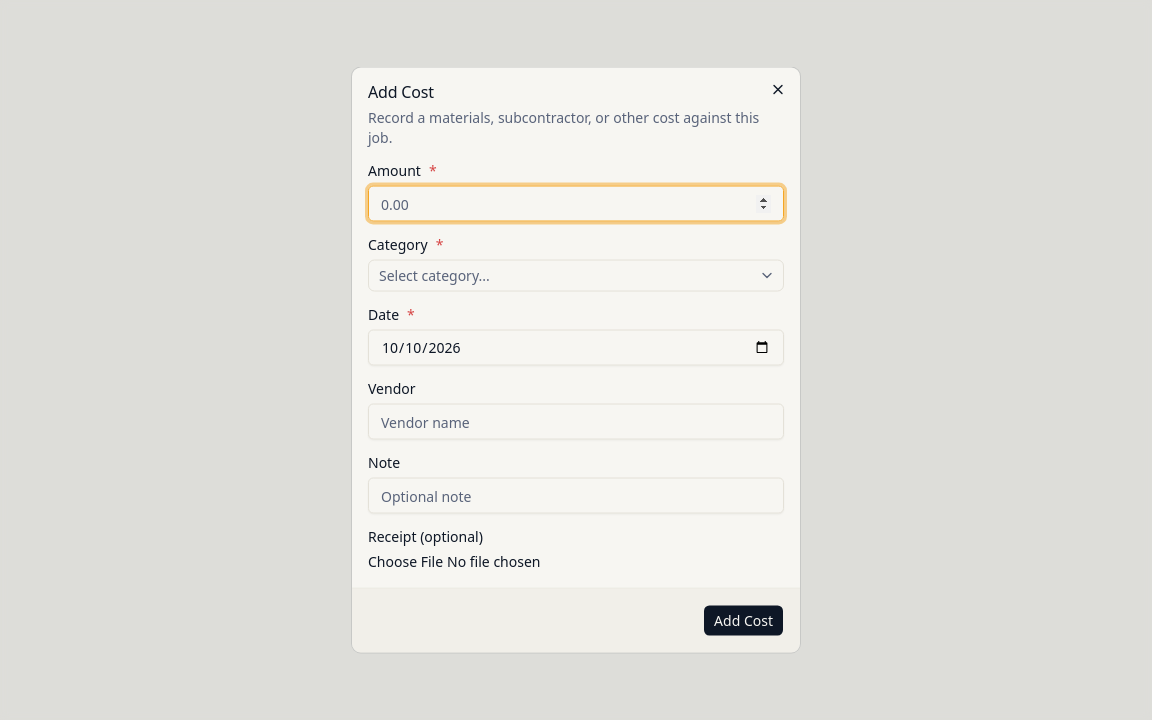
Test: AddCostDialog › blocks submit when category is not selected
The width and height of the screenshot is (1152, 720).
Type "150" into the number field labelled "Amount *" at point(576, 204), box left=368, top=186, right=784, bottom=222
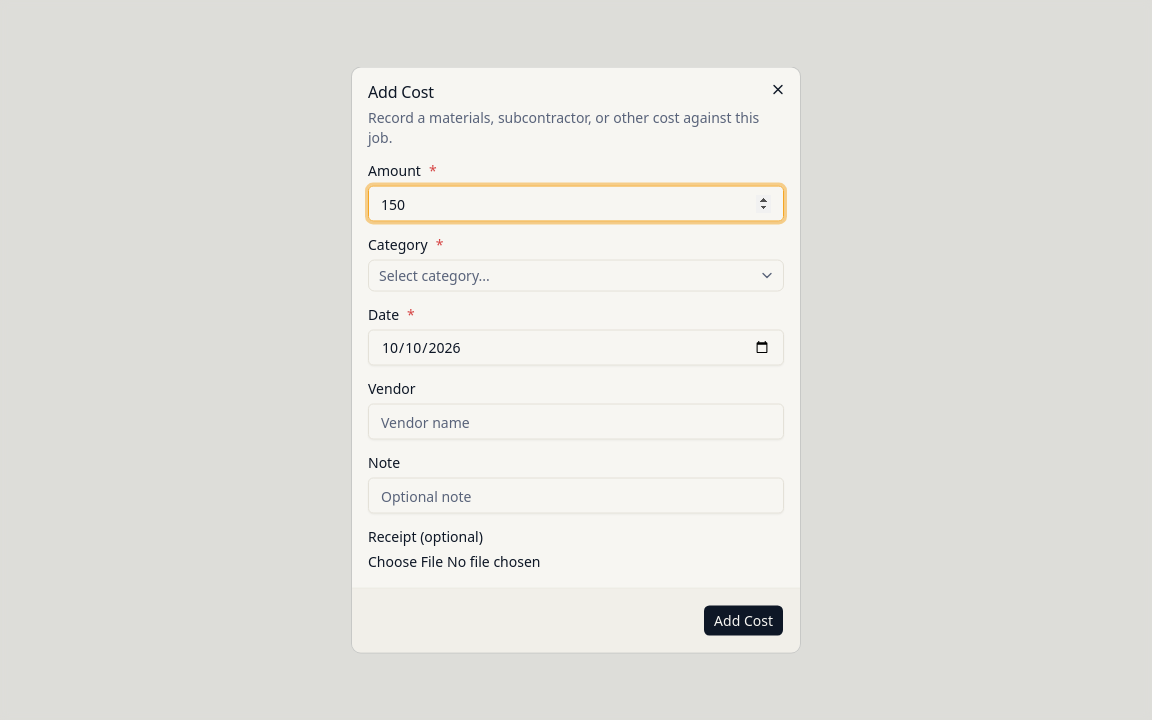
Click the button "Add Cost" at point(744, 620), box left=703, top=604, right=784, bottom=636
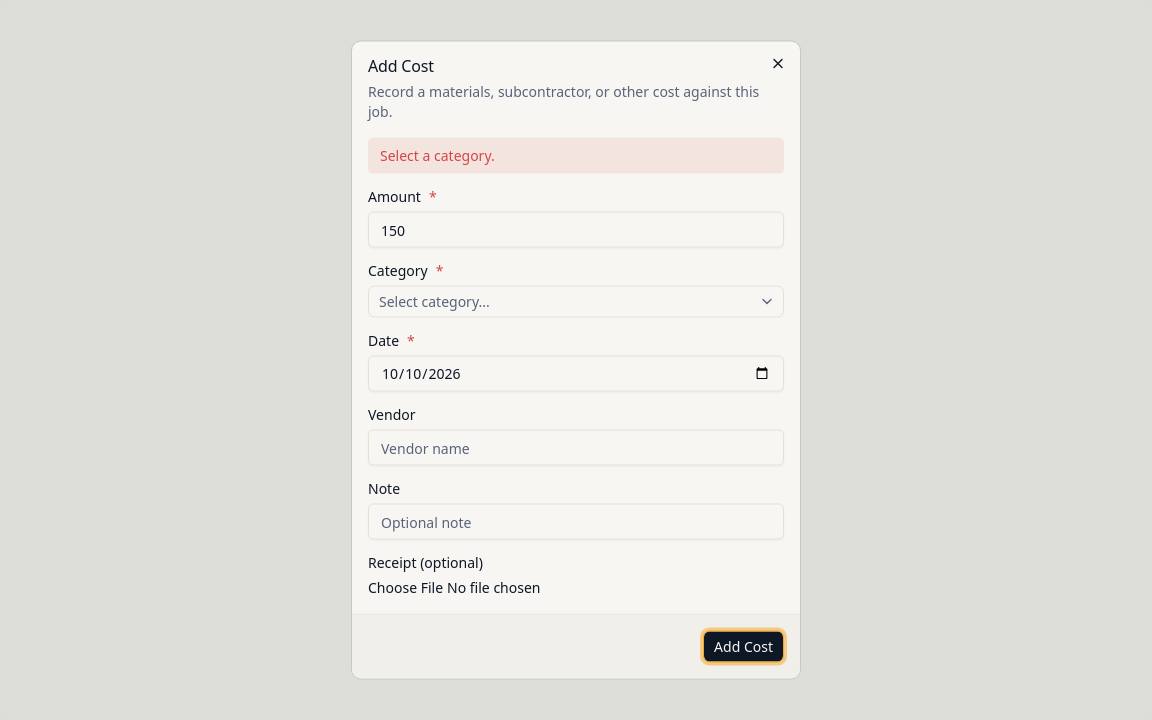
Result: the text "Select a category." is shown at left=368, top=138, right=784, bottom=174
